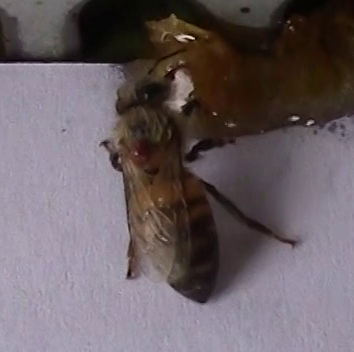Varroa destructor: (131, 140, 152, 167)
